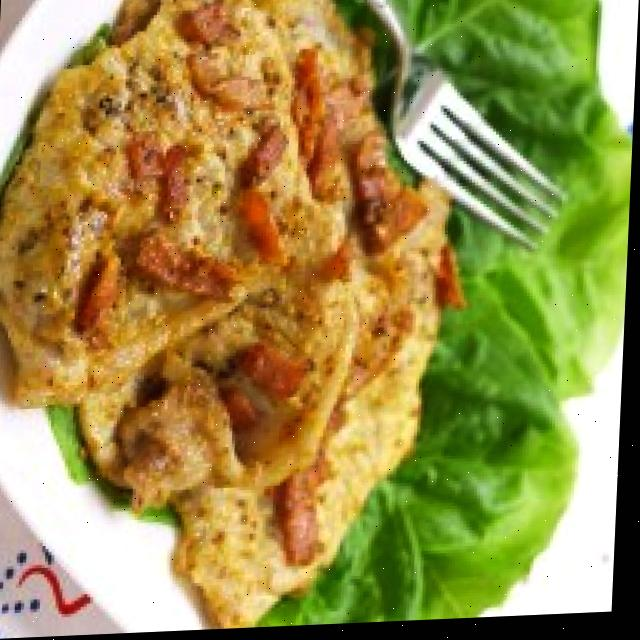猪肉菜式: (0, 0, 430, 602)
